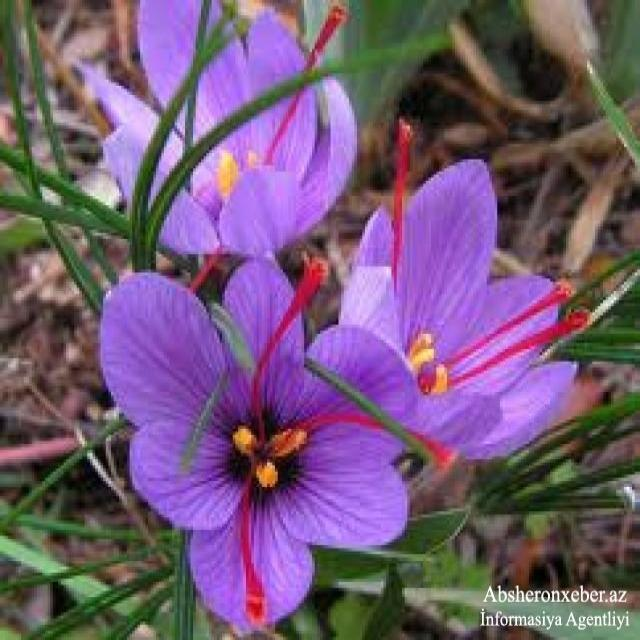Flower: (96, 256, 421, 629), (71, 0, 359, 255), (341, 160, 579, 463)
stigma: (416, 278, 582, 385), (423, 306, 596, 395), (251, 260, 331, 445), (263, 6, 350, 165), (291, 408, 458, 472), (386, 115, 416, 279), (237, 468, 268, 623)
